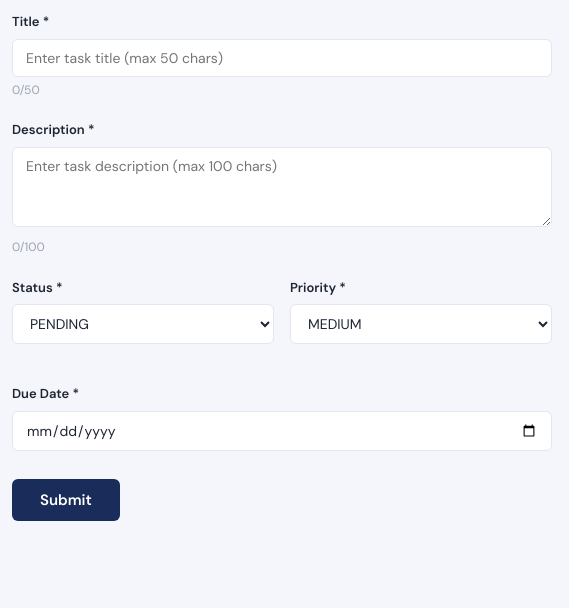
Test case: TaskForm — form validation › shows error when title is empty on submit
This screenshot has width=569, height=608.
Click the button "Submit": (66, 500) [12,479,120,521]
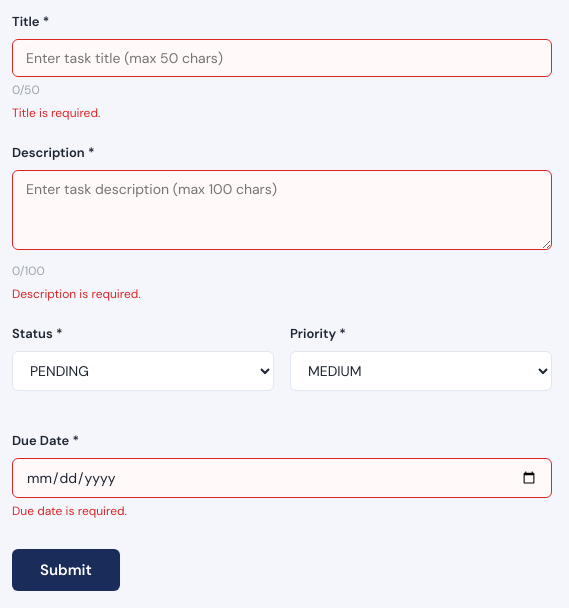
Now the text "Title is required." is shown, box [12,105,100,121]
